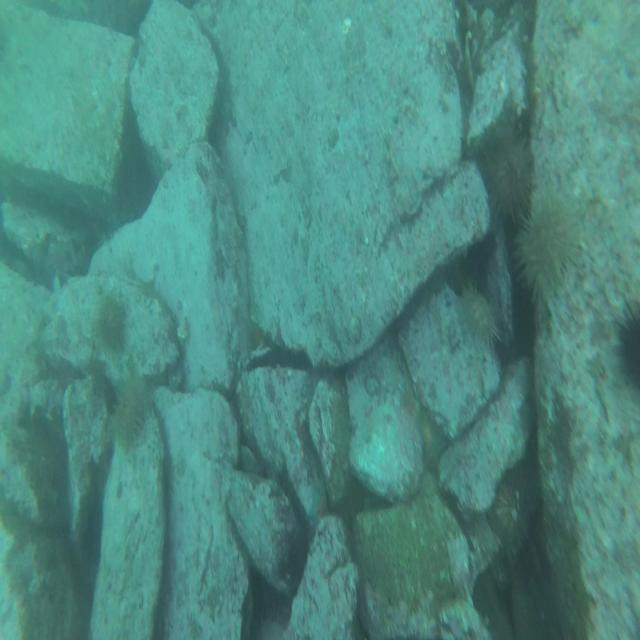echinus: (518, 211, 580, 298), (460, 284, 507, 358), (488, 132, 526, 208), (610, 300, 640, 392), (110, 388, 148, 444), (92, 303, 129, 354)
